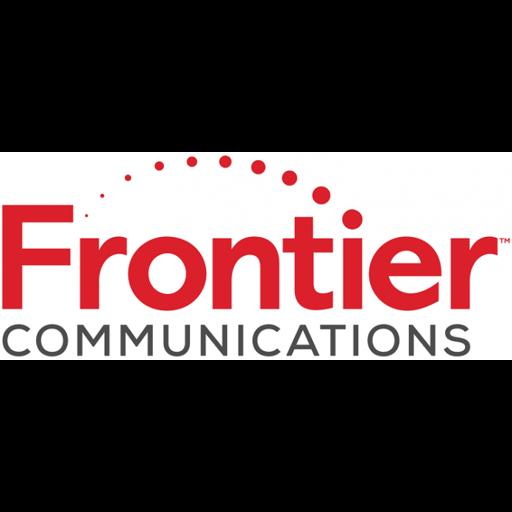Frontier Communications: (0, 152, 512, 360)
